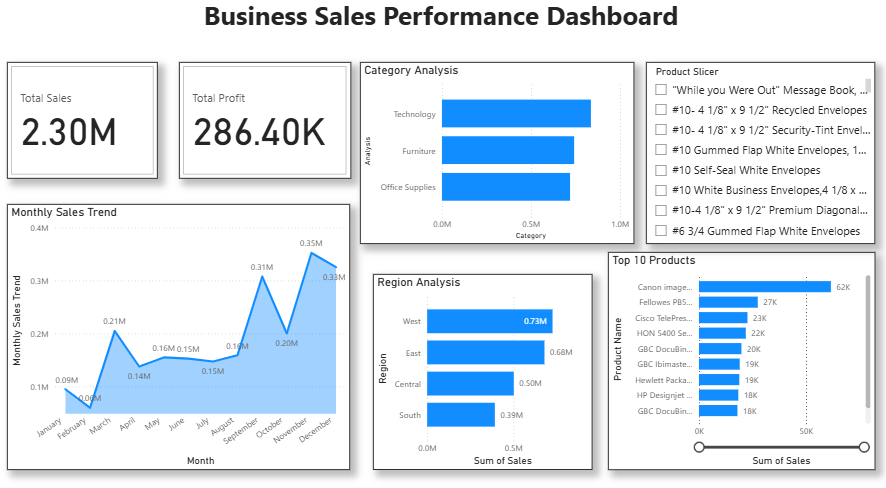

Layout of this report page (visuals, bound fields, positions):
{"tool":"powerbi","page":{"name":"Page 1","canvas":[1280,720],"ordinal":0},"visuals":[{"type":"textbox","box":[10.1,0,1249.9,77.8],"z":0},{"type":"cardVisual","fields":{"Data":["Sum(Sample - Superstore.Sales)"]},"box":[10.1,97.9,217.4,168.5],"z":1000},{"type":"cardVisual","fields":{"Data":["Sum(Sample - Superstore.Profit)"]},"box":[257.8,97.9,247.7,168.5],"z":2000},{"type":"lineChart","title":"Monthly Sales Trend ","fields":{"Y":["Sum(Sample - Superstore.Sales)"],"Category":["Sample - Superstore.Order Date.Variation.Date Hierarchy.Month"]},"box":[10.1,302.4,493.9,383],"z":3000},{"type":"clusteredBarChart","title":"Category   Analysis","fields":{"Y":["Sum(Sample - Superstore.Sales)"],"Category":["Sample - Superstore.Category"]},"box":[518.4,97.9,394.6,262.1],"z":4000},{"type":"clusteredBarChart","title":" Region Analysis","fields":{"Category":["Sample - Superstore.Region"],"Y":["Sum(Sample - Superstore.Sales)"]},"box":[537.5,403.1,315.8,282.2],"z":5000},{"type":"clusteredBarChart","title":"Top 10 Products","fields":{"Category":["Sample - Superstore.Product Name"],"Y":["Sum(Sample - Superstore.Sales)"]},"box":[875.2,371.2,384.7,314.1],"z":6000},{"type":"slicer","fields":{"Values":["Sample - Superstore.Product Name"]},"box":[930.2,97.9,329.8,262.1],"z":7000}]}

Visuals, with their boxes in screenshot pixels (x1, y1, x2, y2), scaled from the page's 1280x720 canvas onto the 886x488 screenshot:
textbox: [7,0,872,53]
cardVisual - Sum(Sample - Superstore.Sales): [7,66,157,181]
cardVisual - Sum(Sample - Superstore.Profit): [178,66,350,181]
"Monthly Sales Trend " lineChart: [7,205,349,465]
"Category   Analysis" clusteredBarChart: [359,66,632,244]
" Region Analysis" clusteredBarChart: [372,273,591,464]
"Top 10 Products" clusteredBarChart: [606,252,872,464]
slicer - Sample - Superstore.Product Name: [644,66,872,244]
